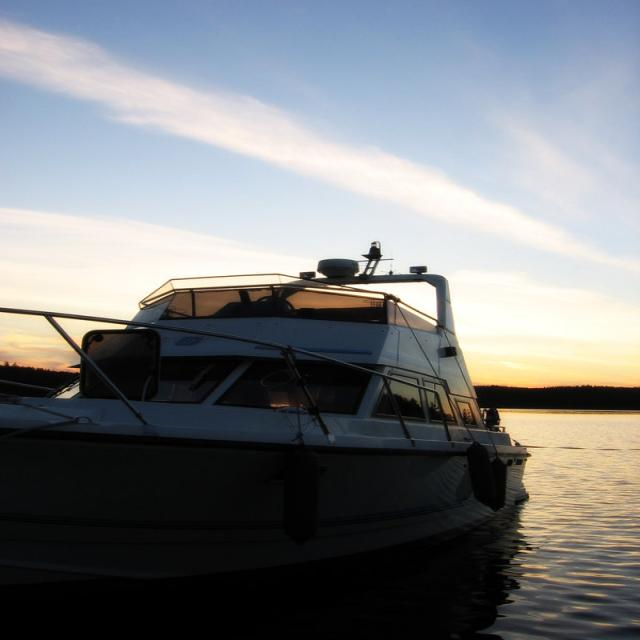Boat: (0, 240, 528, 591)
